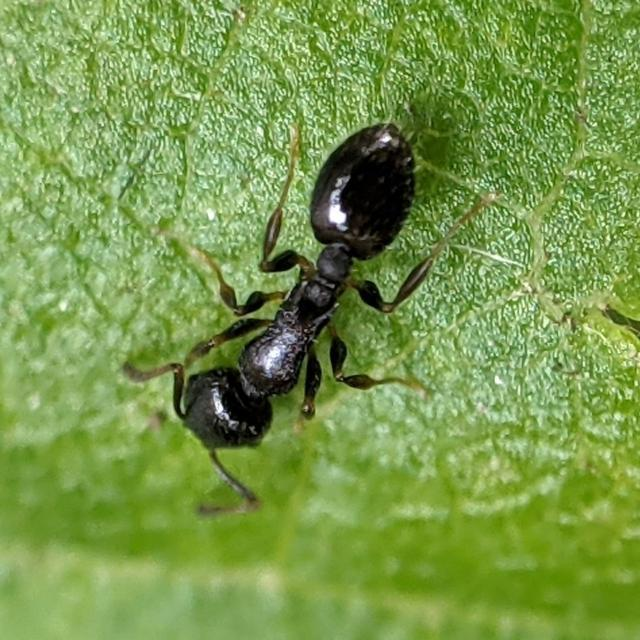Temnothorax: (136, 62, 472, 492)
